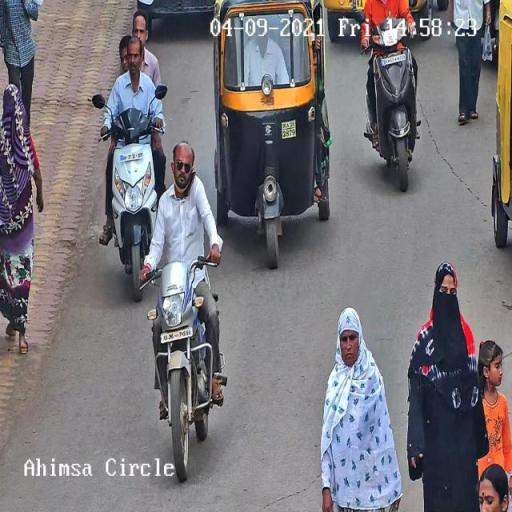using mobile: (180, 164, 200, 200)
